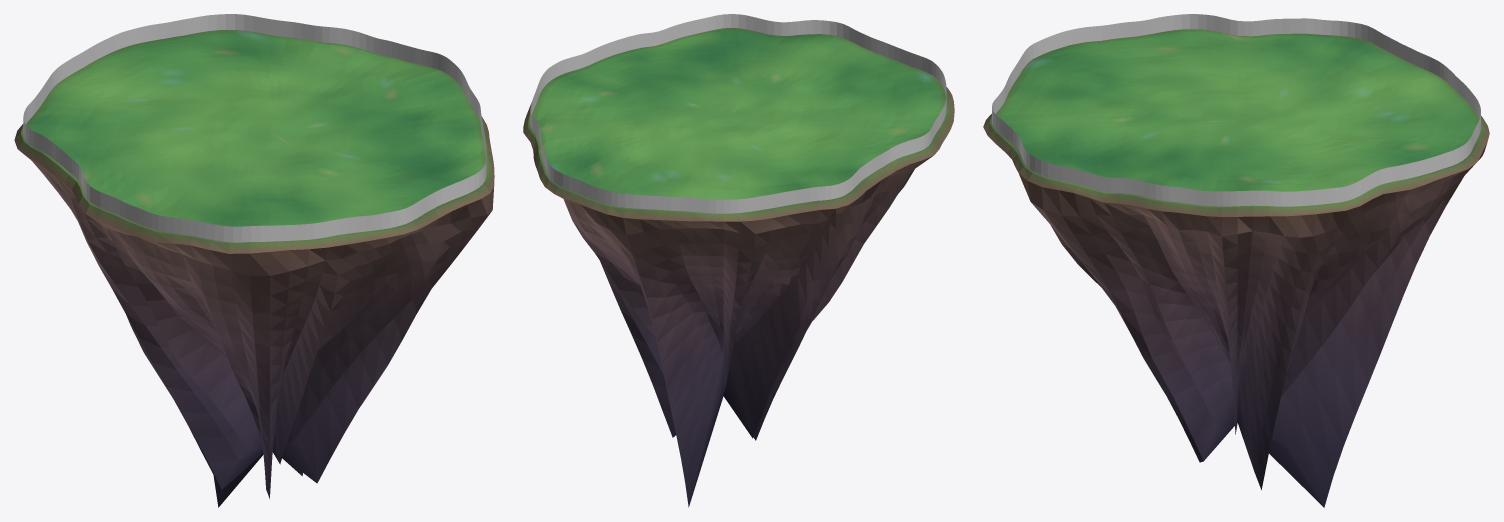
The model's file is Island_Verdant.fbx.
The picture shows the model from 3 angles, left to right: view 1: azimuth 30°, elevation 25°; view 2: azimuth 150°, elevation 25°; view 3: azimuth 270°, elevation 25°; orthographic projection. The views are drawn at different scales.
Visible parts, largest first — view 1: Island_Verdant, EdgeWall; view 2: Island_Verdant, EdgeWall; view 3: Island_Verdant, EdgeWall.
Boxes of the visible parts, <box> form: Island_Verdant: <box>14,30,494,507</box>; EdgeWall: <box>23,14,486,242</box>; Island_Verdant: <box>523,28,954,507</box>; EdgeWall: <box>530,14,946,213</box>; Island_Verdant: <box>983,29,1489,507</box>; EdgeWall: <box>992,14,1480,206</box>.
Size of the model in its own units: 72.41 by 72.72 by 81.93.
